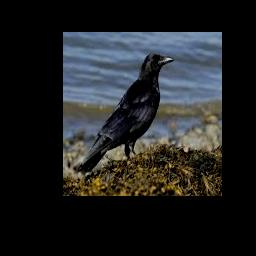Crow: (78, 53, 173, 173)
